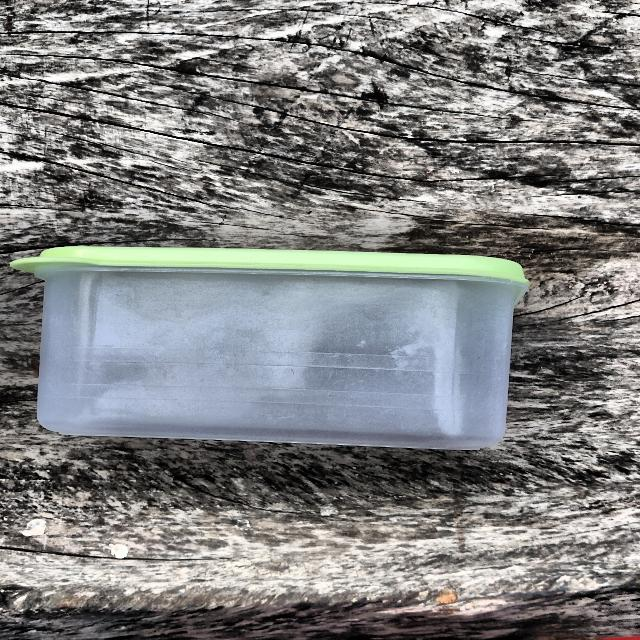plastic container: (3, 227, 550, 474)
